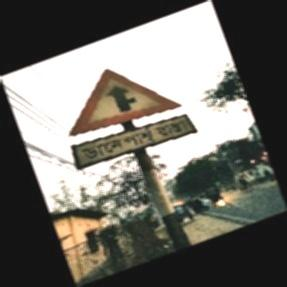Side-road-right: (70, 69, 189, 160)
